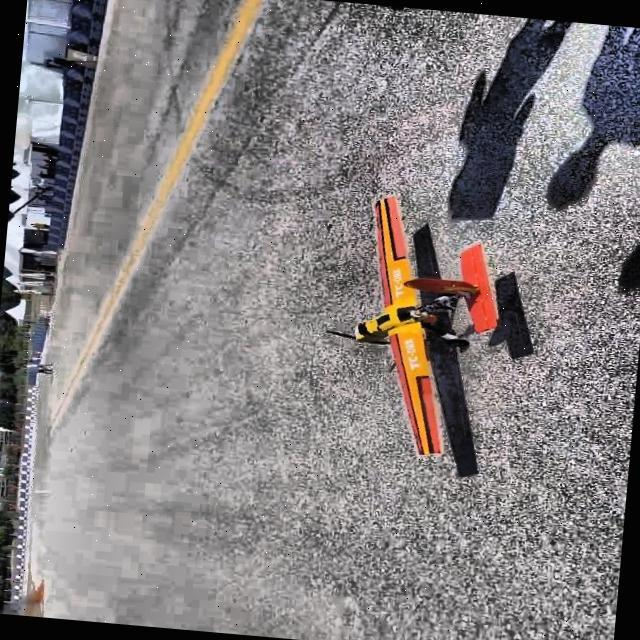iha: (314, 189, 521, 461)
